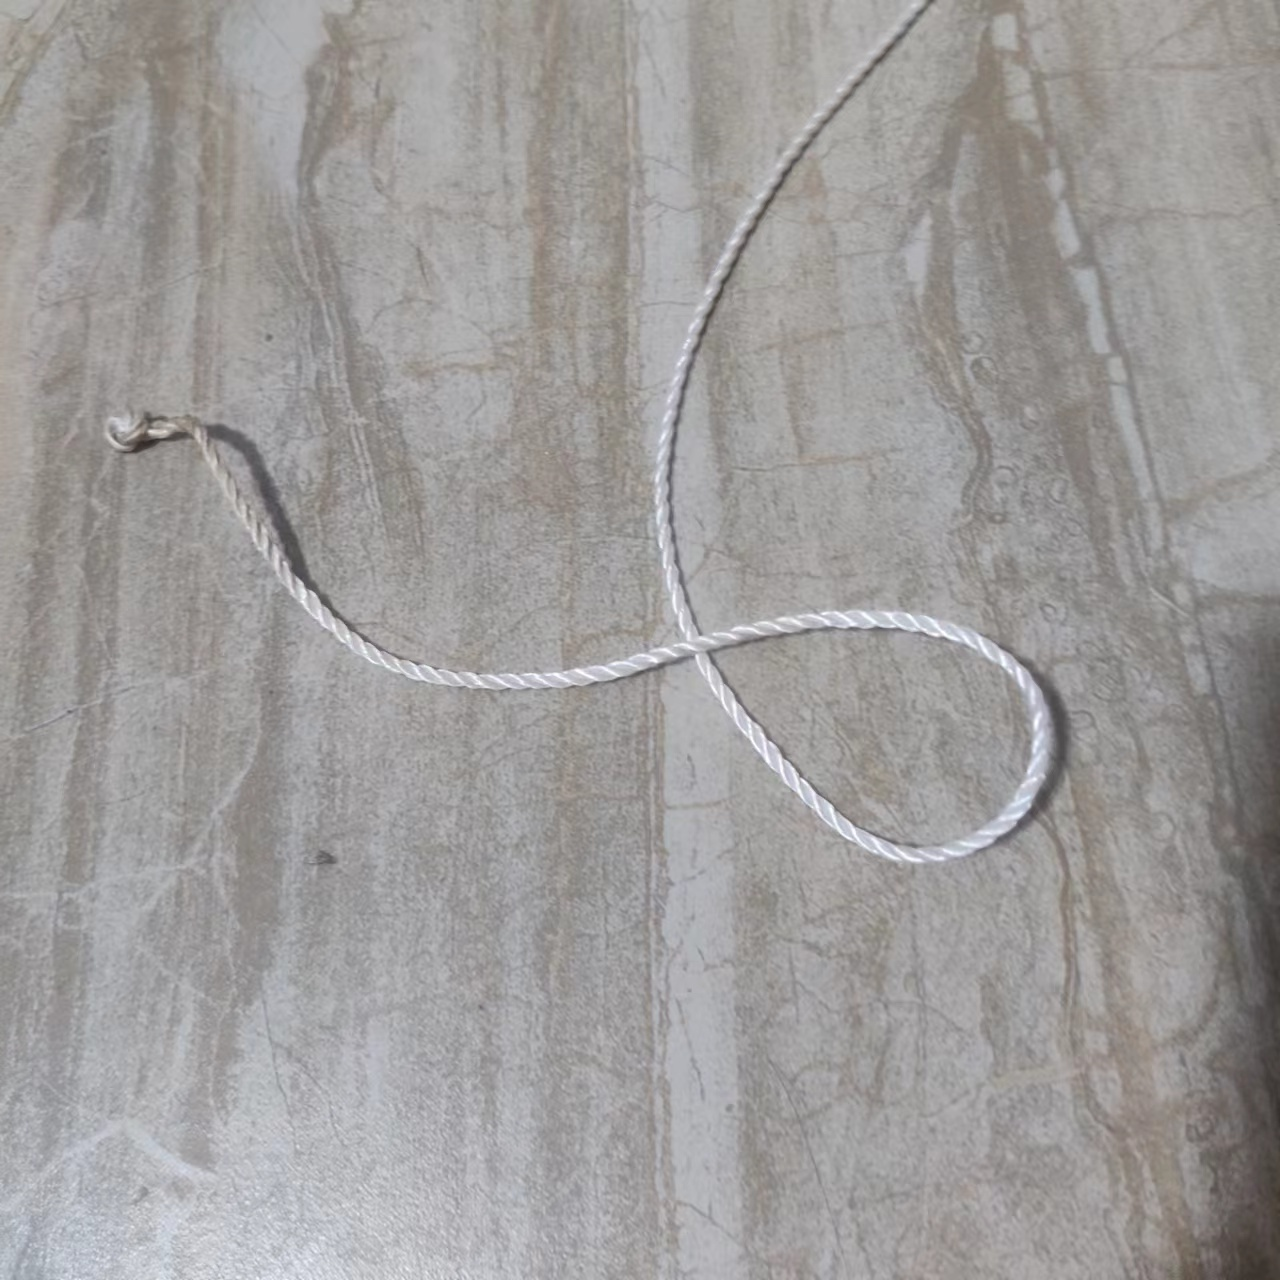9/可回收垃圾/绳子: (103, 1, 1060, 863)
